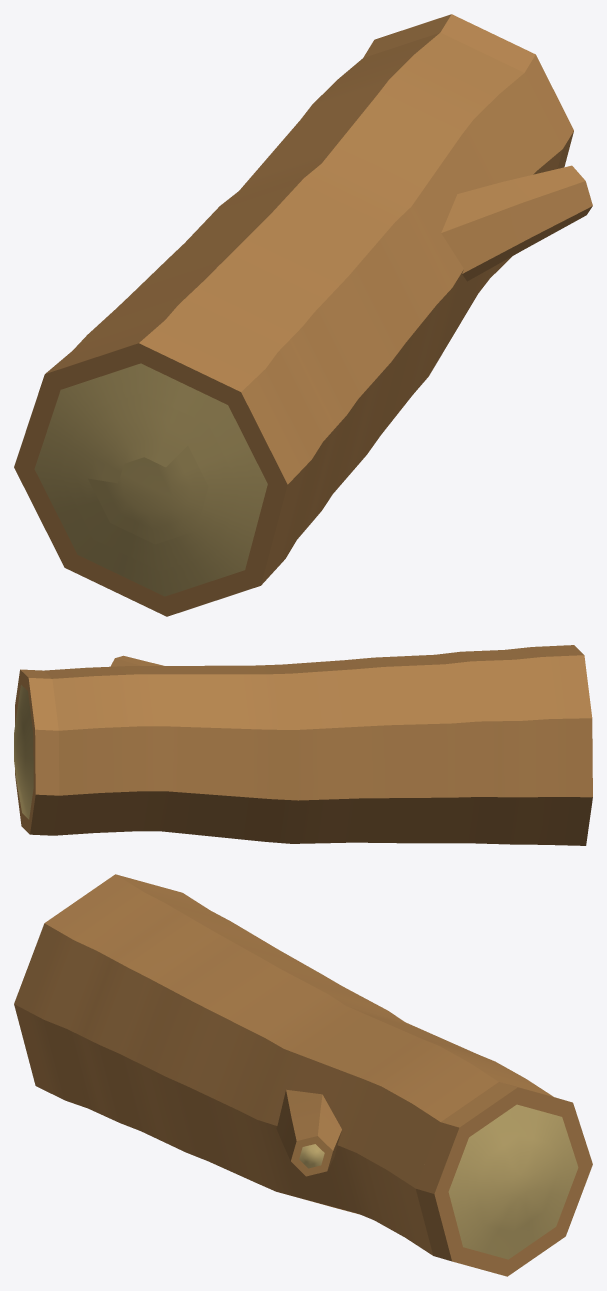
File: wood.dae
3 renders of one model, top to bottom at view 1: azimuth 30°, elevation 25°; view 2: azimuth 150°, elevation 25°; view 3: azimuth 270°, elevation 25°, orthographic. The views are drawn at different scales.
Parts seen in each view (by area): view 1: Cylinder; view 2: Cylinder; view 3: Cylinder.
Boxes of the visible parts, x1,y1,x2,y2 form: Cylinder: (14,14,592,616); Cylinder: (14,645,592,845); Cylinder: (14,874,592,1276).
Size of the model in its own units: 6.09 by 5.36 by 2.36.
